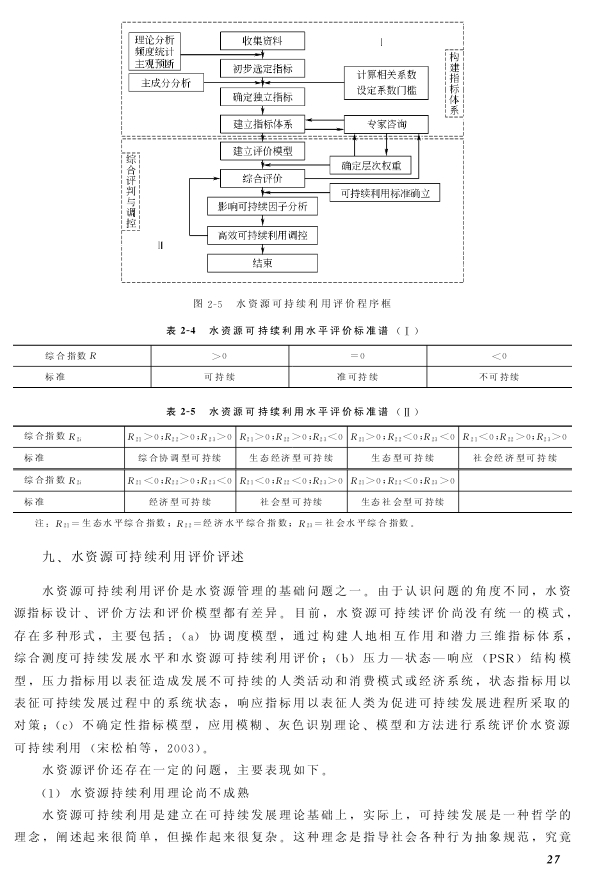table: (13, 425, 572, 513), (13, 344, 572, 388)
